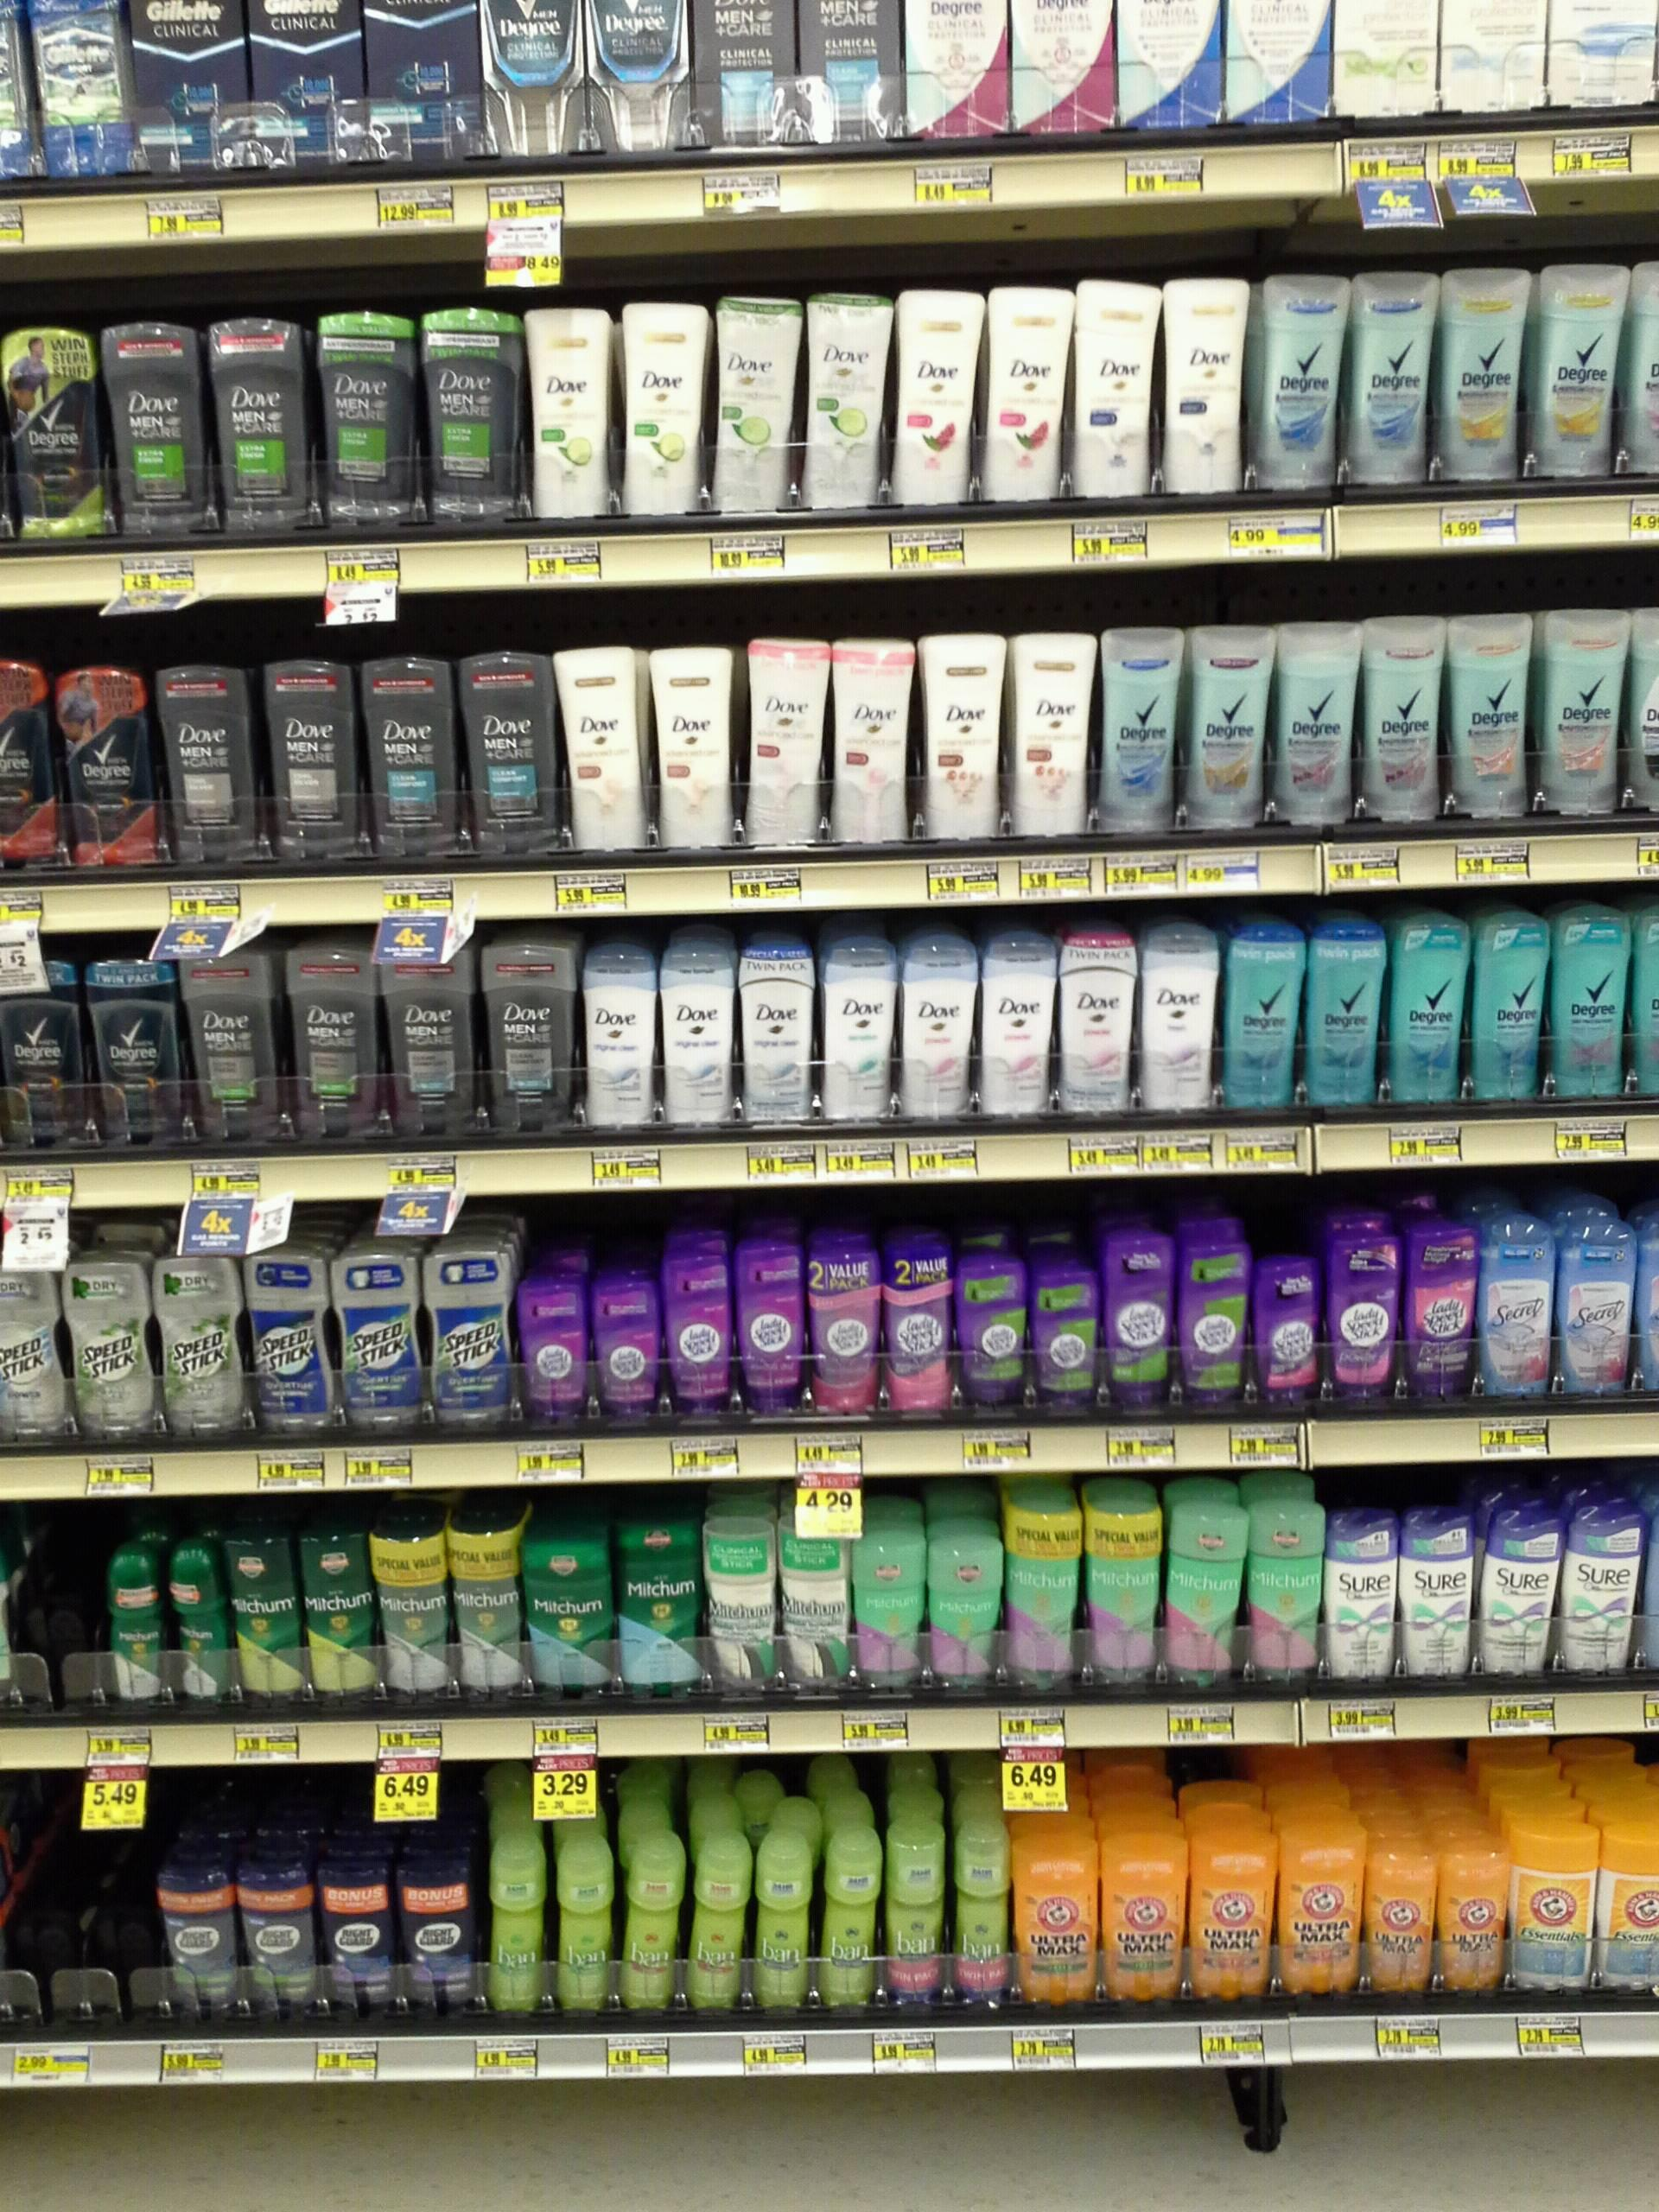empty: (19, 1545, 110, 1689), (49, 1857, 150, 1968)
